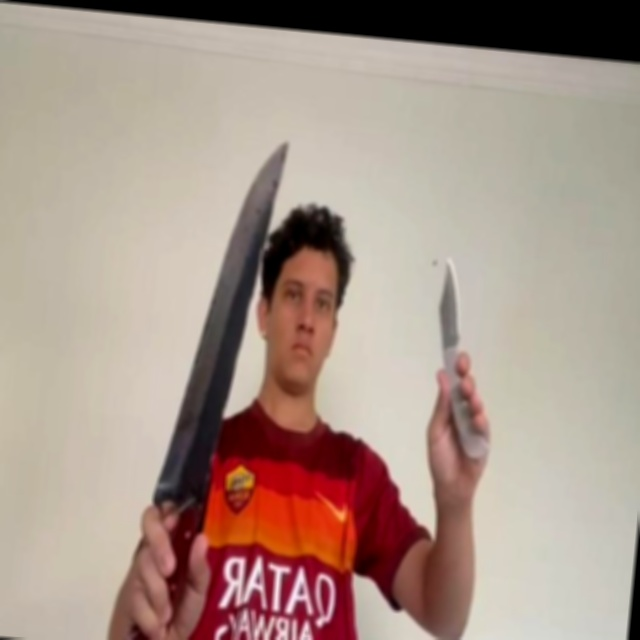Sharp-Object: (151, 130, 289, 517)
